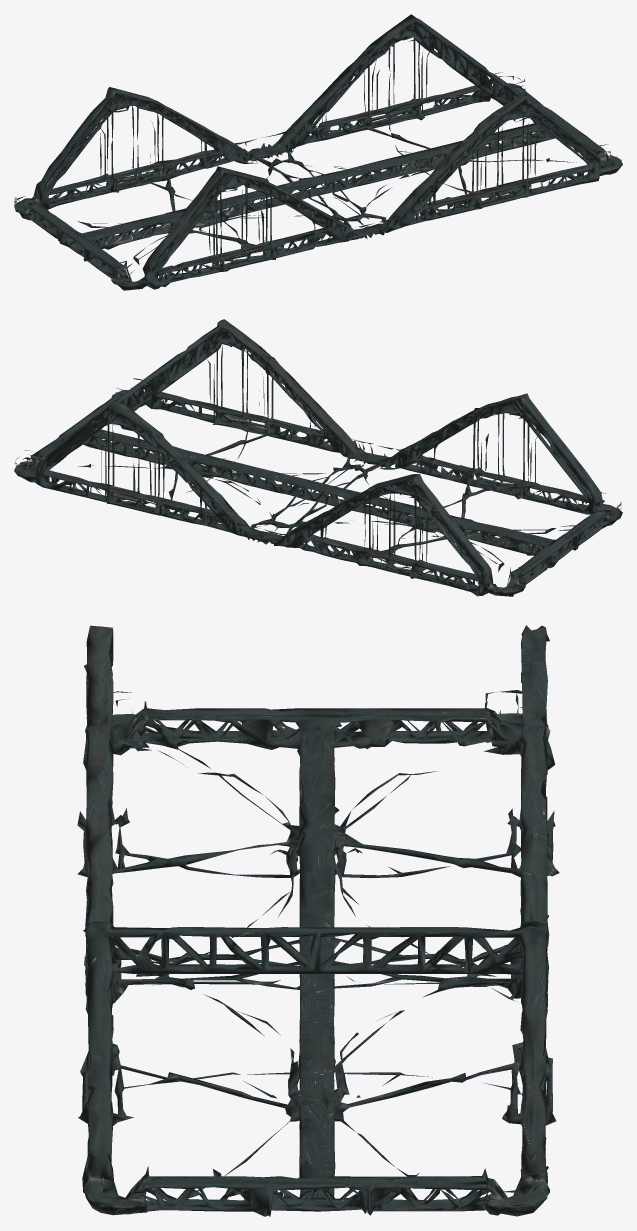
The model's file is teleoperator_dispatchBridgeDeck.glb.
3 renders of one model, top to bottom at view 1: azimuth 30°, elevation 25°; view 2: azimuth 150°, elevation 25°; view 3: azimuth 270°, elevation 25°, orthographic. The views are drawn at different scales.
Size of the model in its own units: 1.9 by 0.3736 by 0.7851.
Materials: 1 (1 with a texture image).
